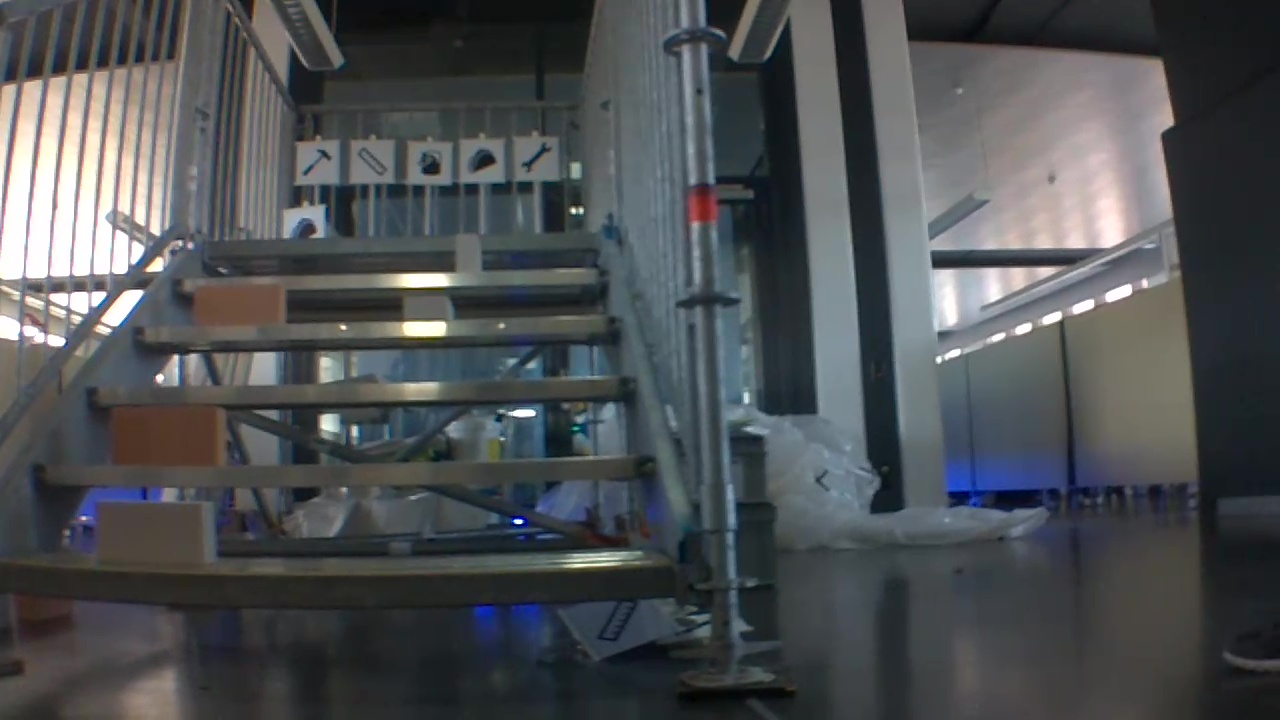brick: (98, 500, 213, 567), (109, 406, 225, 468), (193, 282, 286, 325), (402, 296, 453, 322), (455, 233, 479, 273)
bucket: (414, 146, 445, 177)
edge: (1, 562, 673, 605), (84, 375, 638, 403), (35, 459, 654, 483), (131, 313, 620, 340), (171, 269, 611, 286), (204, 233, 596, 251)
hammer: (298, 144, 334, 180)
ruler: (352, 145, 391, 177)
stairs: (0, 0, 797, 705)
steps: (0, 225, 677, 631)
taco: (463, 144, 497, 174), (286, 211, 318, 239)
wrench: (517, 138, 554, 177)
